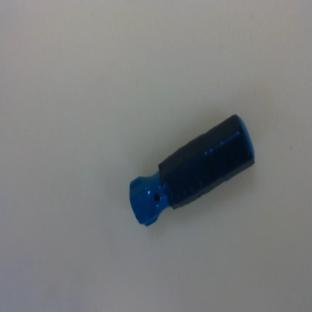part_2_bad: (116, 112, 265, 230)
